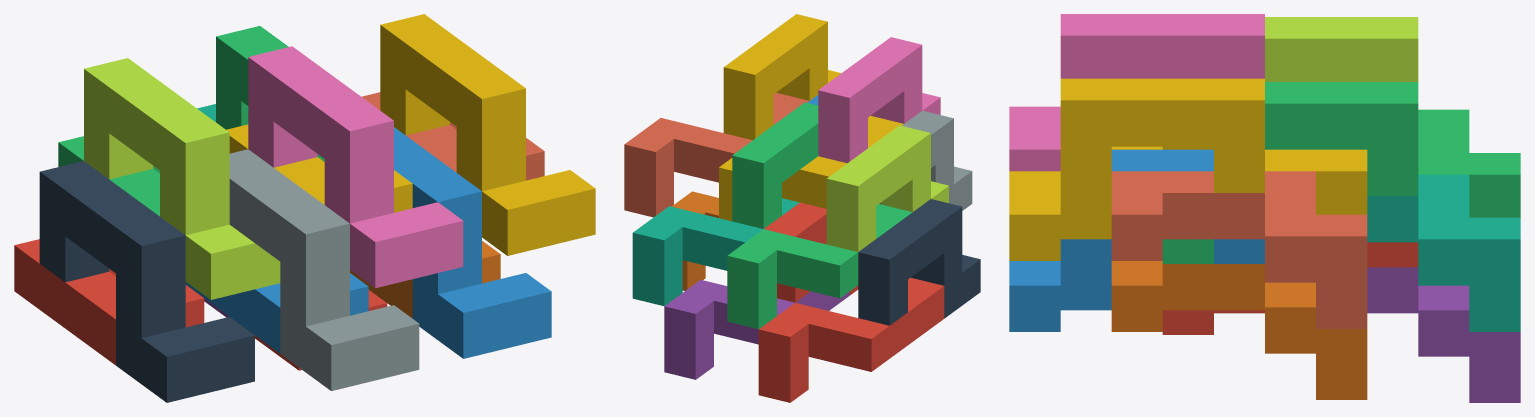
Rendered from tiling.obj.
The picture shows the model from 3 angles, left to right: view 1: azimuth 30°, elevation 25°; view 2: azimuth 150°, elevation 25°; view 3: azimuth 270°, elevation 25°; orthographic projection. The views are drawn at different scales.
Parts seen in each view (by area): view 1: copy_2_domain_1, copy_2_domain_4, copy_2_domain_8, copy_2_domain_3, copy_2_domain_2, copy_2_domain_6, copy_1_domain_1, copy_2_domain_7, copy_1_domain_2, copy_1_domain_4, copy_1_domain_8, copy_1_domain_3 (+1 smaller); view 2: copy_1_domain_1, copy_2_domain_1, copy_1_domain_3, copy_2_domain_3, copy_2_domain_4, copy_2_domain_8, copy_1_domain_8, copy_1_domain_7, copy_2_domain_7, copy_1_domain_5, copy_1_domain_4, copy_2_domain_2 (+2 smaller); view 3: copy_2_domain_8, copy_1_domain_8, copy_2_domain_4, copy_1_domain_6, copy_2_domain_7, copy_1_domain_7, copy_2_domain_6, copy_2_domain_3, copy_1_domain_5, copy_1_domain_3, copy_1_domain_4, copy_2_domain_5.
Part boxes in pixels (x1,y1,x2,y2): copy_2_domain_1: (39, 161, 254, 402); copy_2_domain_4: (248, 46, 463, 288); copy_2_domain_8: (380, 14, 595, 255); copy_2_domain_3: (84, 58, 280, 299); copy_2_domain_2: (229, 149, 419, 390); copy_2_domain_6: (394, 127, 551, 358); copy_1_domain_1: (14, 239, 204, 365); copy_2_domain_7: (216, 26, 324, 161); copy_1_domain_2: (185, 273, 368, 353); copy_1_domain_4: (226, 124, 412, 212); copy_1_domain_8: (361, 92, 544, 180); copy_1_domain_3: (58, 136, 159, 216); copy_1_domain_1: (758, 277, 944, 402); copy_2_domain_1: (858, 199, 980, 325); copy_1_domain_3: (727, 204, 912, 329); copy_2_domain_3: (826, 125, 948, 251); copy_2_domain_4: (818, 37, 940, 163); copy_2_domain_8: (723, 14, 841, 140); copy_1_domain_8: (624, 92, 808, 217); copy_1_domain_7: (632, 198, 799, 306); copy_2_domain_7: (732, 102, 818, 228); copy_1_domain_5: (664, 280, 849, 379); copy_1_domain_4: (719, 115, 903, 221); copy_2_domain_2: (879, 110, 972, 210); copy_2_domain_8: (1009, 78, 1264, 260); copy_1_domain_8: (1111, 171, 1367, 328); copy_2_domain_4: (1009, 14, 1264, 171); copy_1_domain_6: (1111, 261, 1367, 399); copy_2_domain_7: (1162, 82, 1418, 263); copy_1_domain_7: (1367, 174, 1520, 331); copy_2_domain_6: (1009, 149, 1264, 331); copy_2_domain_3: (1265, 17, 1418, 81); copy_1_domain_5: (1367, 267, 1520, 402); copy_1_domain_3: (1418, 109, 1520, 217); copy_1_domain_4: (1111, 146, 1367, 214); copy_2_domain_5: (1162, 242, 1418, 334).
Size of the model in its own units: 9 by 7 by 10.
